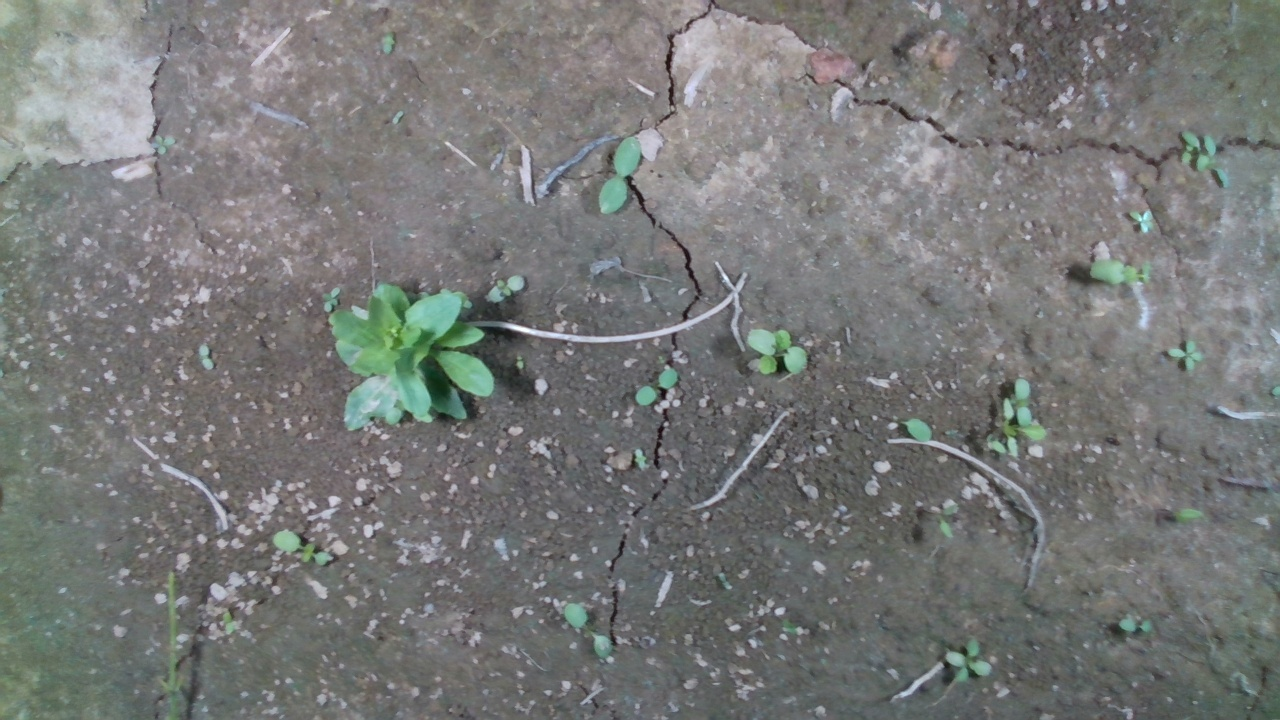weed: (596, 134, 641, 214), (743, 325, 809, 377), (943, 634, 993, 684), (269, 528, 333, 567), (634, 367, 680, 405), (1165, 338, 1204, 375), (482, 272, 527, 304), (1117, 611, 1155, 634), (1125, 207, 1155, 235), (320, 284, 341, 313), (196, 342, 214, 372)
